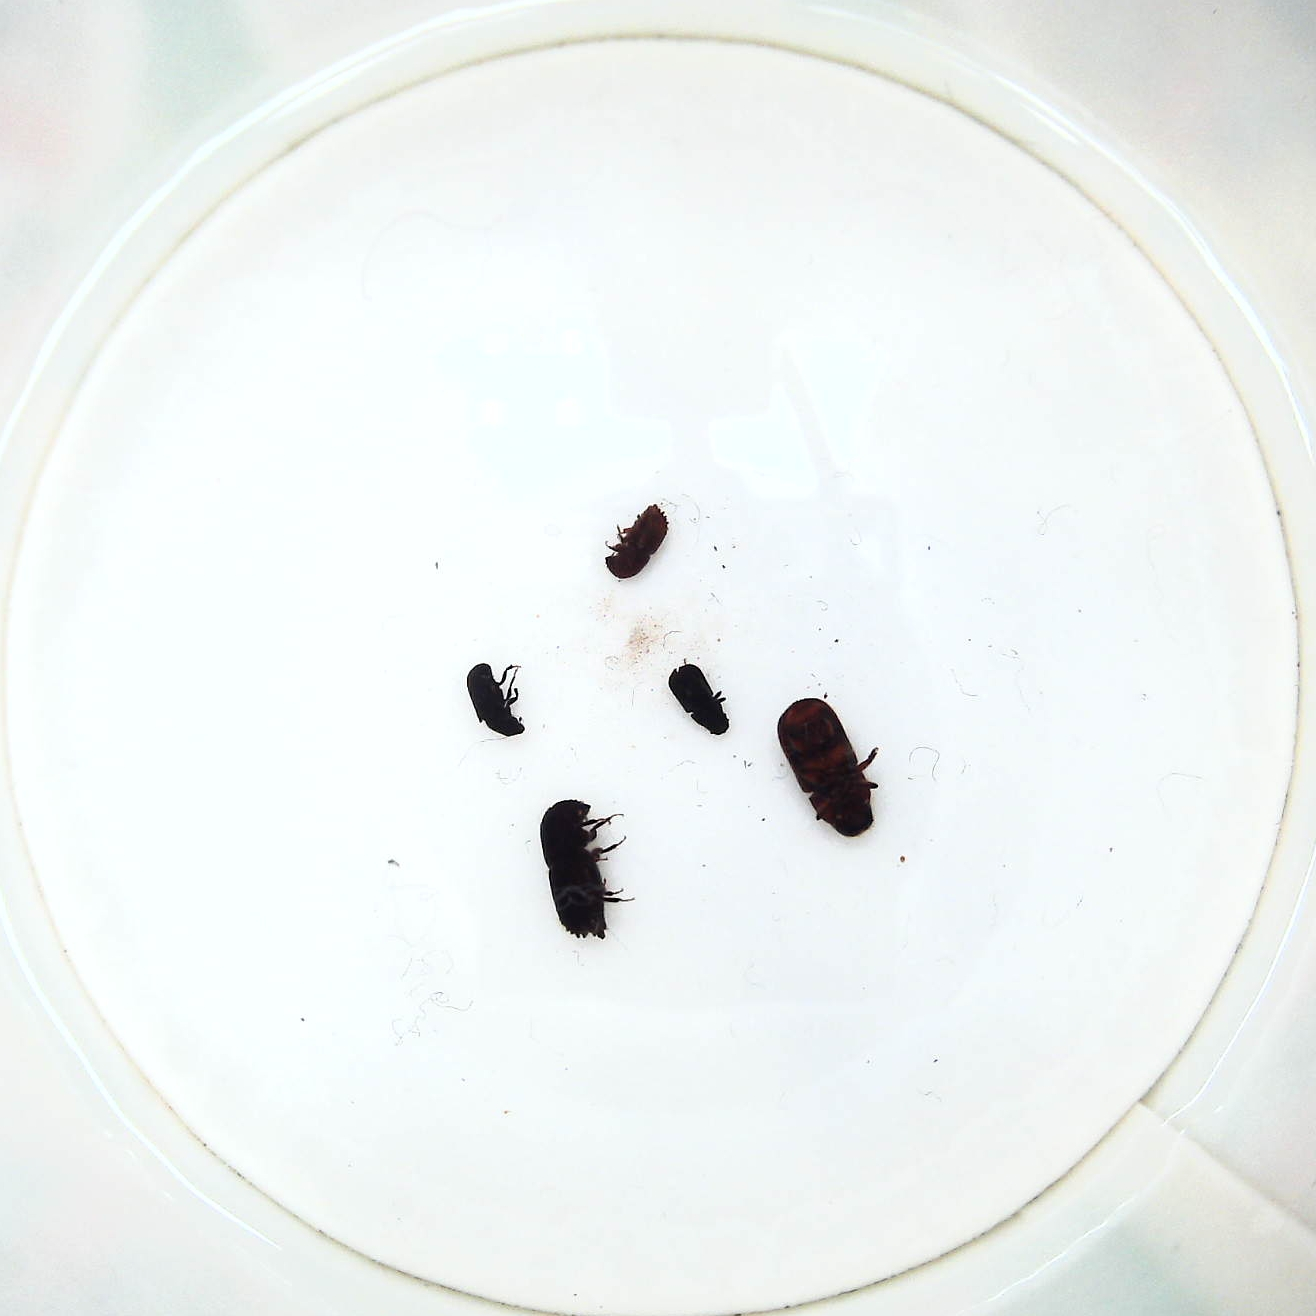Boerner: (531, 797, 634, 942)
Leconte: (769, 691, 895, 847)
armandi: (660, 654, 732, 742)
coleoptera: (466, 654, 530, 742)
linnaeus: (600, 498, 678, 584)
